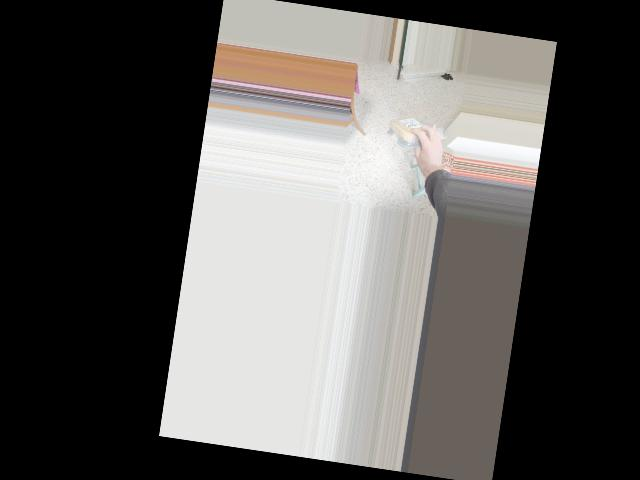cheese: (386, 115, 441, 148)
